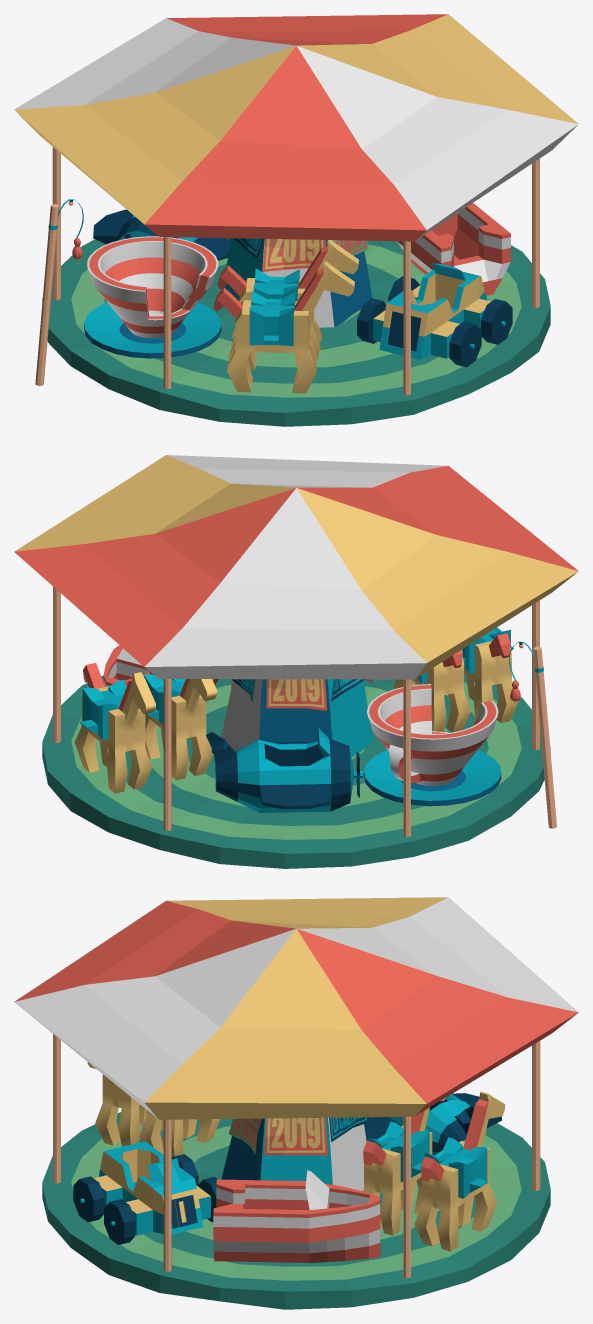
The model's file is Feliz_2019.fbx.
The picture shows the model from 3 angles, top to bottom: view 1: azimuth 30°, elevation 25°; view 2: azimuth 150°, elevation 25°; view 3: azimuth 270°, elevation 25°; orthographic projection.
Visible parts, largest first — view 1: techocale_003, basecale_003, auto_003, taza_003, caballo1_003, lancha_003, soportescale_003, plato_003, caballo2_003, centrocale_003, avion_003, Artboard_1_copyillus_006 (+1 smaller); view 2: techocale_003, basecale_003, avion_003, taza_003, caballo4_003, centrocale_003, caballo3_003, soportescale_003, plato_003, caballo1_003, caballo2_003, Artboard_1_copyillus_005 (+2 smaller); view 3: techocale_003, basecale_003, lancha_003, auto_003, caballo4_003, centrocale_003, soportescale_003, caballo3_003, avion_003, Artboard_1_copyillus_007, caballo1_003, caballo2_003 (+2 smaller).
Boxes of the visible parts, x1,y1,x2,y2 form: techocale_003: (14, 14, 578, 241); basecale_003: (42, 239, 550, 426); auto_003: (357, 263, 512, 367); taza_003: (87, 236, 218, 338); caballo1_003: (213, 261, 354, 393); lancha_003: (397, 203, 510, 295); soportescale_003: (52, 147, 539, 395); plato_003: (84, 302, 221, 358); caballo2_003: (217, 240, 358, 369); centrocale_003: (222, 238, 372, 327); avion_003: (93, 209, 231, 260); Artboard_1_copyillus_006: (262, 238, 326, 271); techocale_003: (14, 455, 578, 679); basecale_003: (42, 673, 550, 868); avion_003: (206, 727, 362, 812); taza_003: (367, 684, 498, 786); caballo4_003: (74, 663, 155, 793); centrocale_003: (221, 679, 372, 757); caballo3_003: (144, 669, 217, 780); soportescale_003: (53, 586, 539, 836); plato_003: (364, 750, 501, 806); caballo1_003: (448, 627, 518, 722); caballo2_003: (393, 649, 470, 732); Artboard_1_copyillus_005: (266, 679, 327, 710); techocale_003: (14, 897, 578, 1119); basecale_003: (42, 1112, 550, 1309); lancha_003: (213, 1170, 380, 1262); auto_003: (73, 1141, 217, 1244); caballo4_003: (414, 1091, 505, 1251); centrocale_003: (221, 1117, 366, 1190); soportescale_003: (53, 1034, 540, 1278); caballo3_003: (363, 1098, 445, 1235); avion_003: (364, 1093, 501, 1155); Artboard_1_copyillus_007: (264, 1117, 328, 1155); caballo1_003: (87, 1062, 163, 1146); caballo2_003: (139, 1110, 219, 1157).
Size of the model in its own units: 580 by 319 by 591.
14 materials, 3 textured.
